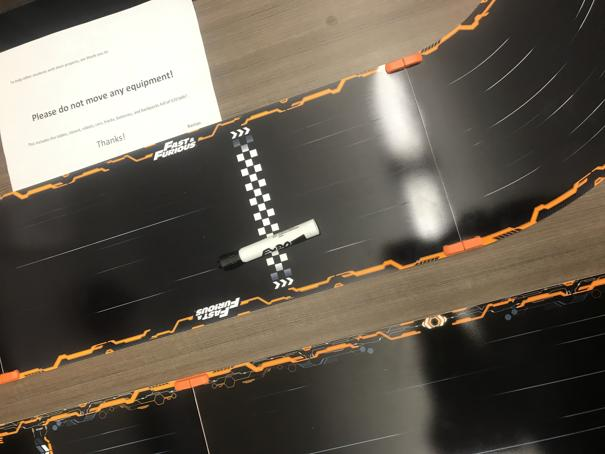Finish Line: (228, 126, 295, 289)
